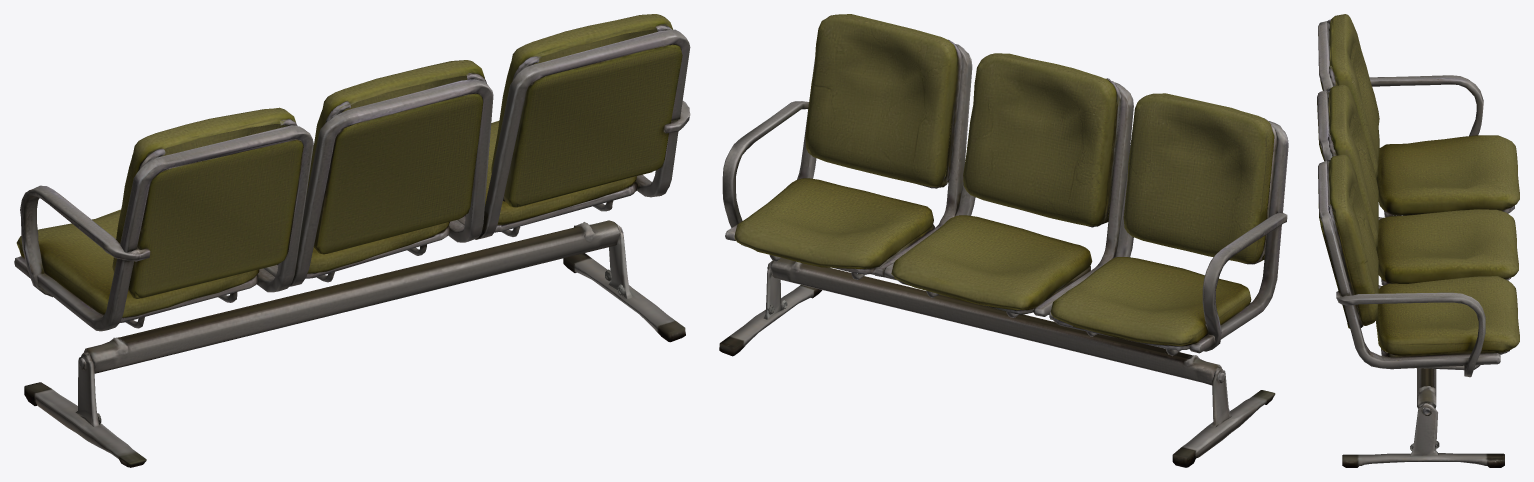
The picture shows the model from 3 angles, left to right: view 1: azimuth 30°, elevation 25°; view 2: azimuth 150°, elevation 25°; view 3: azimuth 270°, elevation 25°; orthographic projection. The views are drawn at different scales.
Parts seen in each view (by area): view 1: tripo_node_12da7d93-ead1-49d4-aac4-a711560aa306; view 2: tripo_node_12da7d93-ead1-49d4-aac4-a711560aa306; view 3: tripo_node_12da7d93-ead1-49d4-aac4-a711560aa306.
Boxes of the visible parts, x1,y1,x2,y2 form: tripo_node_12da7d93-ead1-49d4-aac4-a711560aa306: (14,14,690,467); tripo_node_12da7d93-ead1-49d4-aac4-a711560aa306: (719,14,1288,467); tripo_node_12da7d93-ead1-49d4-aac4-a711560aa306: (1317,14,1519,467).
Bounding box in the file's own units: 0.998 × 0.5527 × 0.3926.
1 material, 1 textured.
